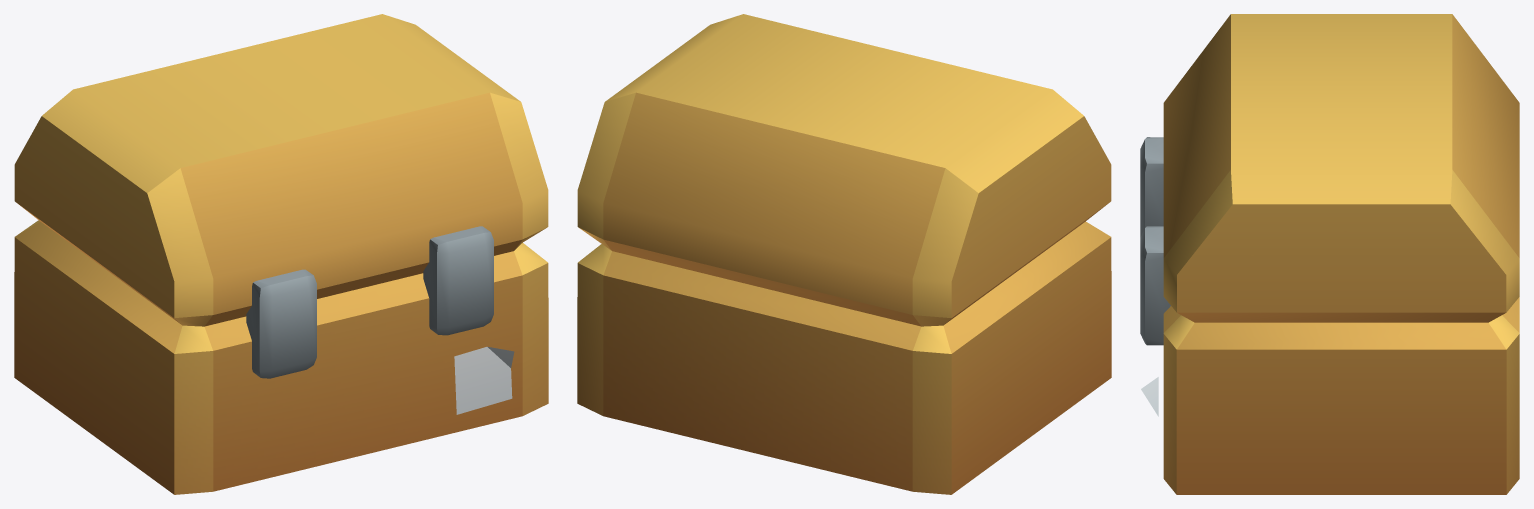
Rendered from ammo_crate_withLid.fbx.
3 renders of one model, left to right at view 1: azimuth 30°, elevation 25°; view 2: azimuth 150°, elevation 25°; view 3: azimuth 270°, elevation 25°, orthographic. The views are drawn at different scales.
Parts seen in each view (by area): view 1: ammo_crate_lid, ammo_crate_withLid; view 2: ammo_crate_lid, ammo_crate_withLid; view 3: ammo_crate_lid, ammo_crate_withLid.
Part boxes in pixels (left/top/right/bottom): ammo_crate_lid: left=14, top=14, right=548, bottom=378; ammo_crate_withLid: left=14, top=220, right=548, bottom=494; ammo_crate_lid: left=577, top=14, right=1111, bottom=326; ammo_crate_withLid: left=577, top=221, right=1111, bottom=494; ammo_crate_lid: left=1140, top=14, right=1519, bottom=345; ammo_crate_withLid: left=1141, top=297, right=1519, bottom=494.
Bounding box in the file's own units: 0.575 × 0.46 × 0.4901.
